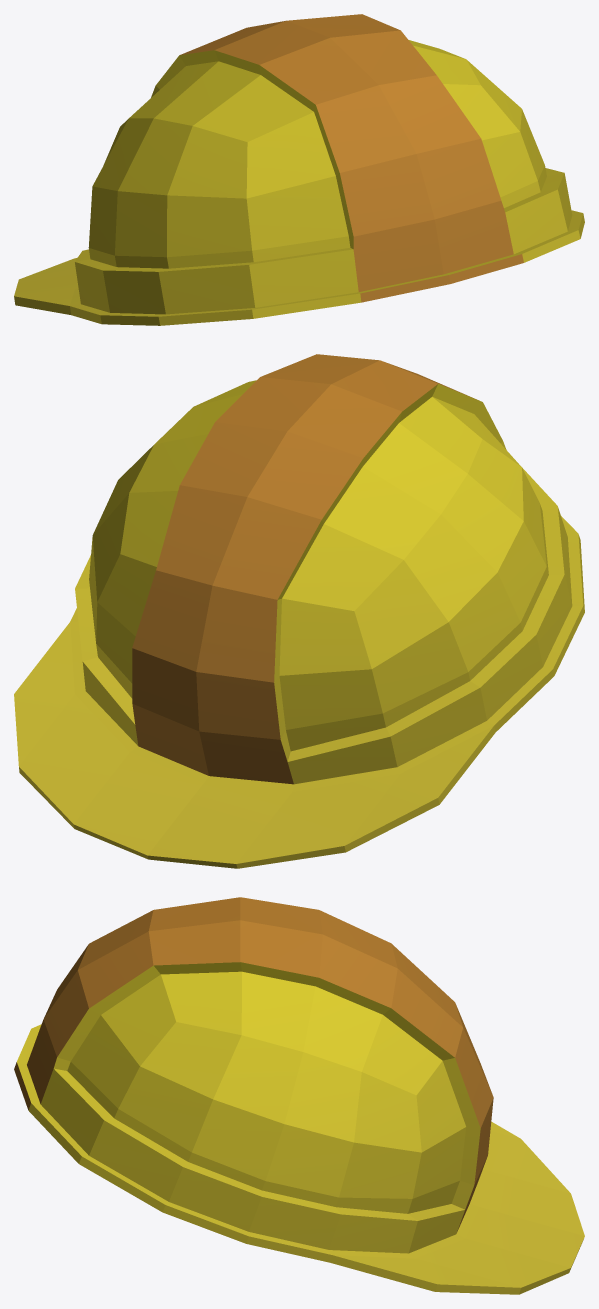
Rendered from Ouvrier.fbx.
3 views of the same model, one above another, from view 1: azimuth 30°, elevation 25°; view 2: azimuth 150°, elevation 25°; view 3: azimuth 270°, elevation 25° (orthographic). The views are drawn at different scales.
Visible parts, largest first — view 1: Ouvrier; view 2: Ouvrier; view 3: Ouvrier.
Boxes of the visible parts, <box> form: Ouvrier: <box>14,14,584,325</box>; Ouvrier: <box>14,354,584,868</box>; Ouvrier: <box>14,897,584,1294</box>.
Bounding box in the file's own units: 195 × 140 × 227.
